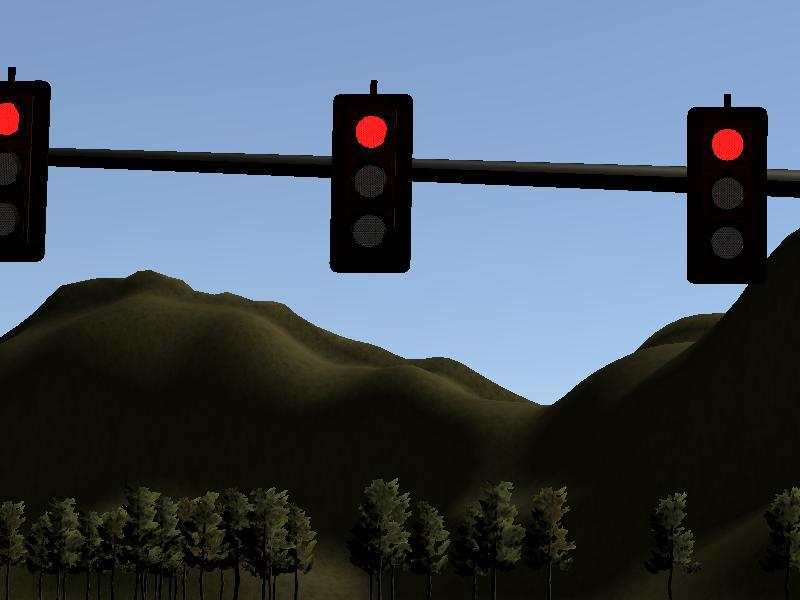Red: (330, 94, 413, 273), (687, 107, 767, 284), (1, 80, 50, 263)
